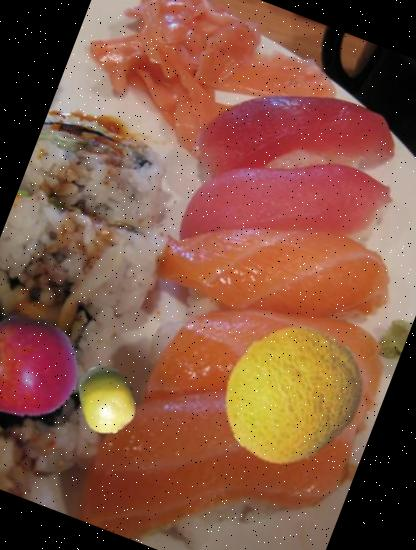Cantaloupe: (196, 298, 384, 485)
Pomegranate: (0, 298, 94, 436)
Pomelo: (61, 355, 152, 445)
